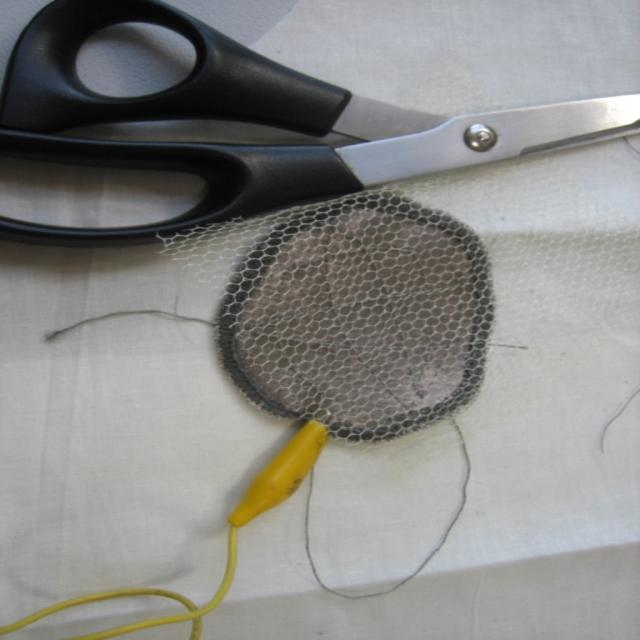scissors: (0, 0, 639, 246)
